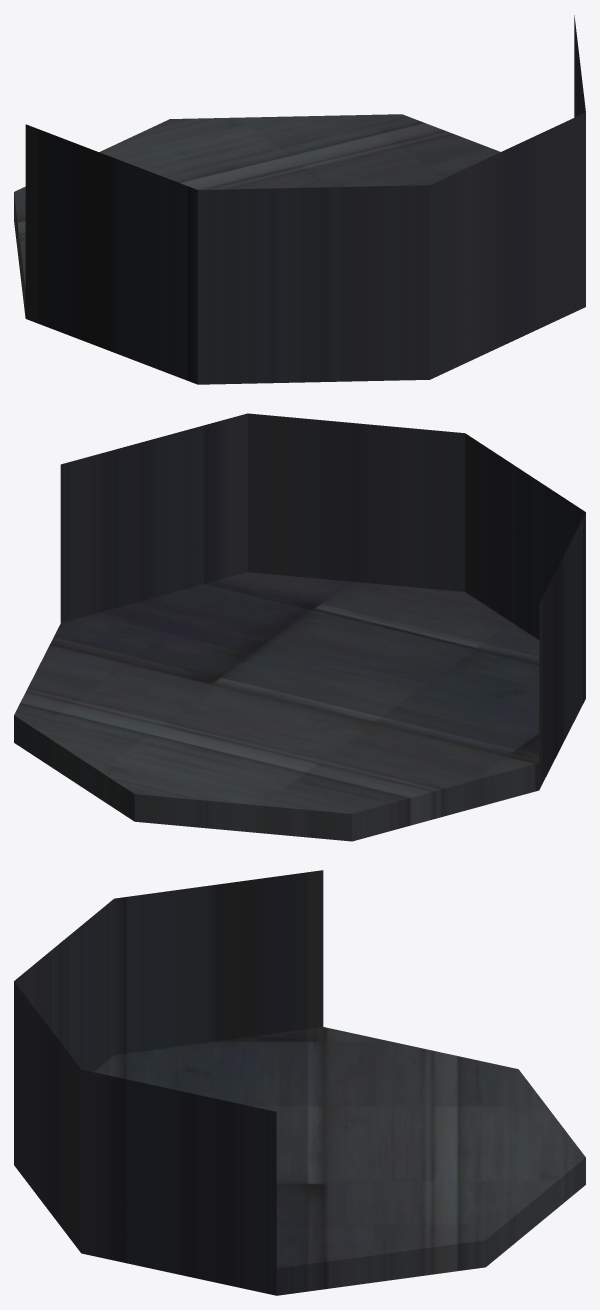
Rendered from BaseBottom_1.gltf.
3 renders of one model, top to bottom at view 1: azimuth 30°, elevation 25°; view 2: azimuth 150°, elevation 25°; view 3: azimuth 270°, elevation 25°, orthographic. The views are drawn at different scales.
Visible parts, largest first — view 1: BaseBottom_1; view 2: BaseBottom_1; view 3: BaseBottom_1.
Boxes of the visible parts, x1,y1,x2,y2 form: BaseBottom_1: (14,15,585,384); BaseBottom_1: (14,413,585,841); BaseBottom_1: (14,870,585,1295).
Size of the model in its own units: 6.85 by 2.43 by 6.85.
1 material, 1 textured.
